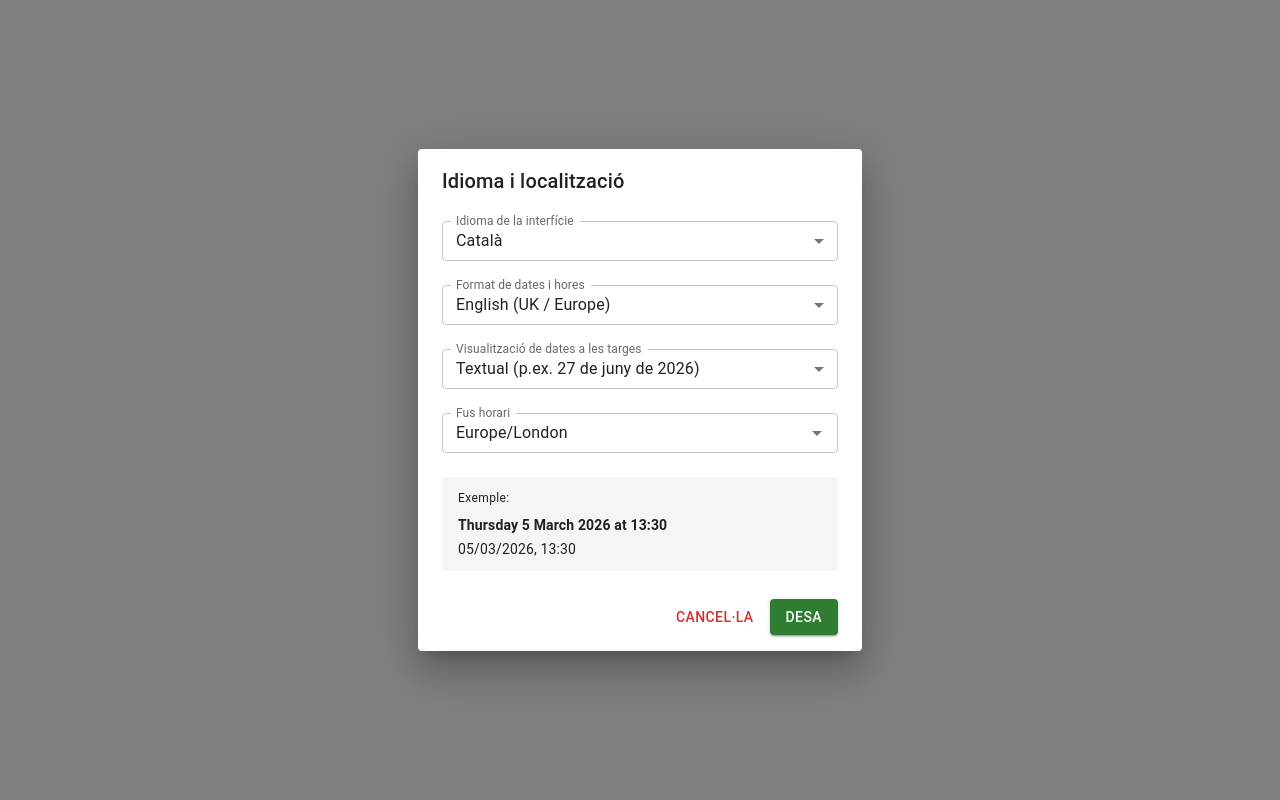
LanguageLocalizationDialog › names the time zone field's buttons, and says nothing matches, in Catalan
This screenshot has width=1280, height=800.
Expected: the button named "Obre" is shown, 803,419 -> 831,447
Step 1. Replace the text in the dropdown labelled "Fus horari" with "Atlàntida" → (624, 433), box 448,419 -> 799,447
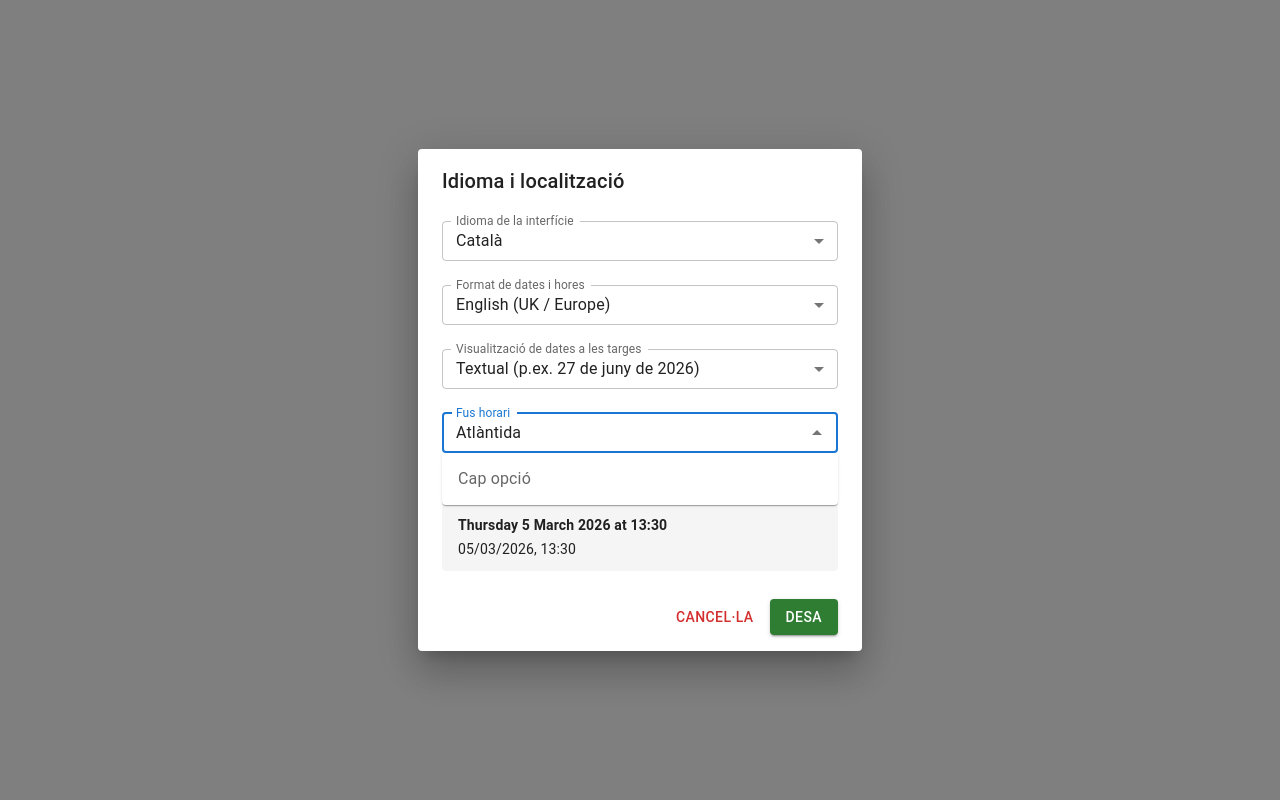
Now the text "Cap opció" is shown, box 458,469 -> 531,488
Now the button named "Tanca" is shown, box 803,419 -> 831,447
